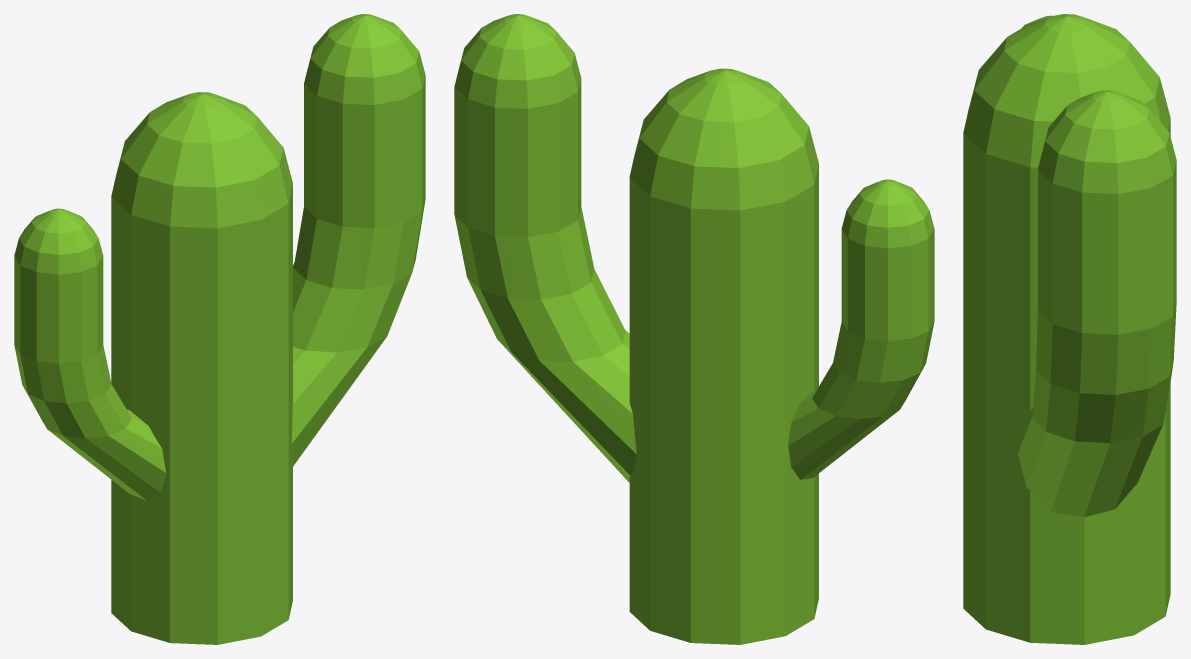
Rendered from Cactus_1.fbx.
The picture shows the model from 3 angles, left to right: view 1: azimuth 30°, elevation 25°; view 2: azimuth 150°, elevation 25°; view 3: azimuth 270°, elevation 25°; orthographic projection. The views are drawn at different scales.
Parts seen in each view (by area): view 1: Cactus_1; view 2: Cactus_1; view 3: Cactus_1.
Part boxes in pixels (left/top/right/bottom): Cactus_1: left=14, top=14, right=425, bottom=644; Cactus_1: left=454, top=14, right=934, bottom=644; Cactus_1: left=963, top=14, right=1176, bottom=644.
Bounding box in the file's own units: 0.767 × 0.9283 × 0.2945.
